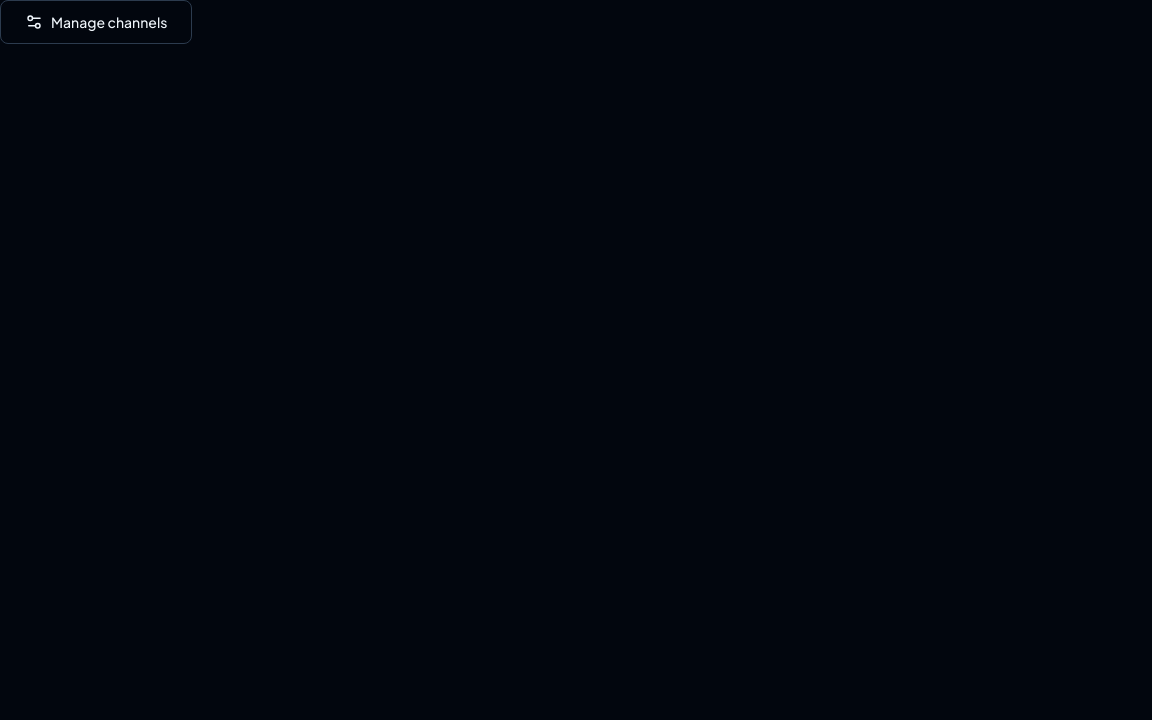
admin community channel management › keeps failed edits retryable without losing entered details
The image size is (1152, 720).
Later steps or results of the test are not shown.
Click the button "Manage channels" at [96, 22], box [0, 0, 192, 44]
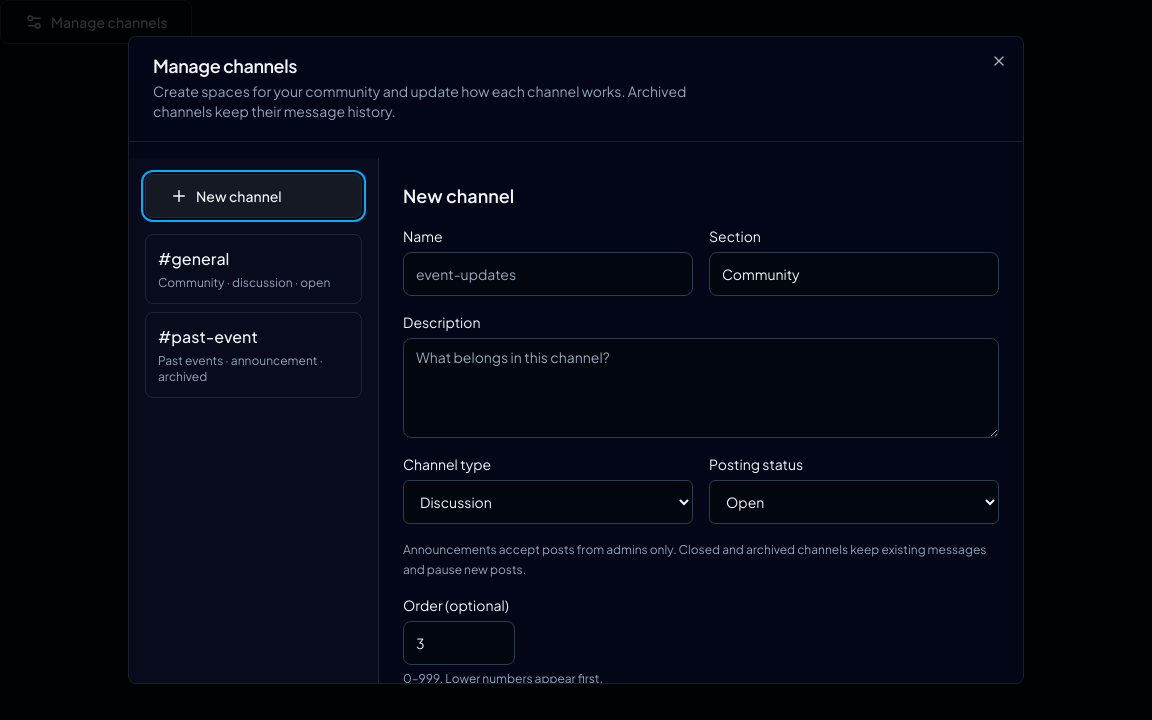
Click the button with aria-label "Edit #general" at [254, 269], box [145, 234, 362, 304]
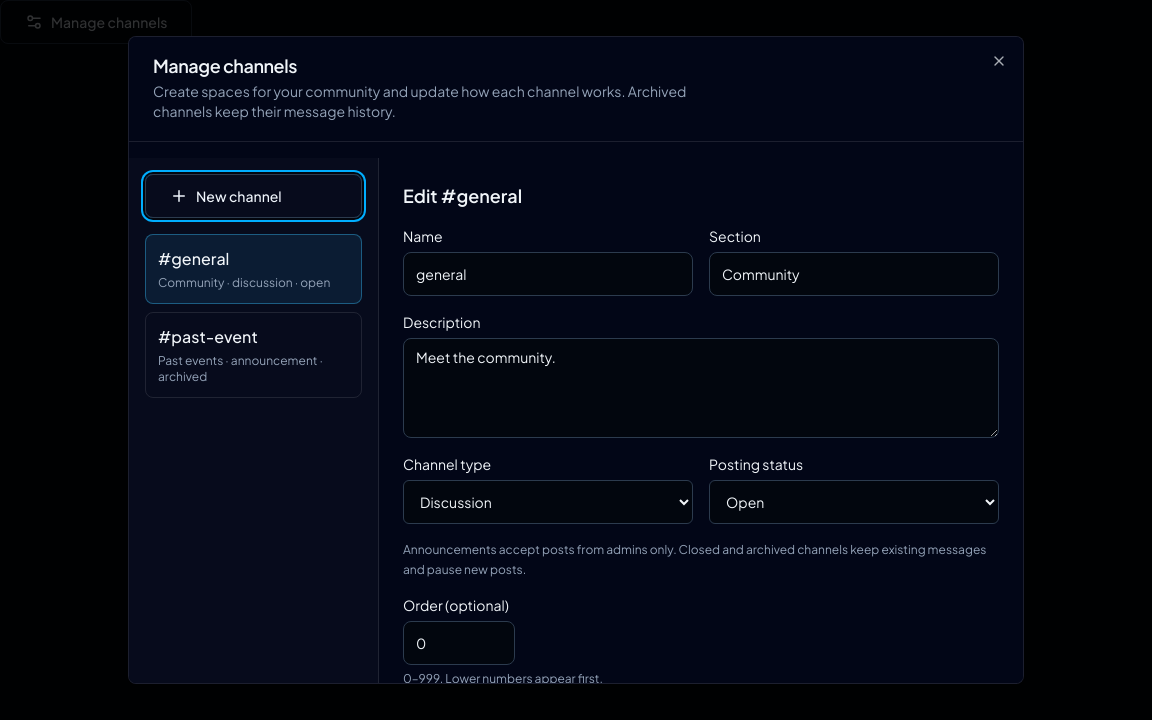
Replace the text in the text box labelled "Description" with "Keep this description." at [701, 388], box [403, 338, 999, 438]
(page scrolled)
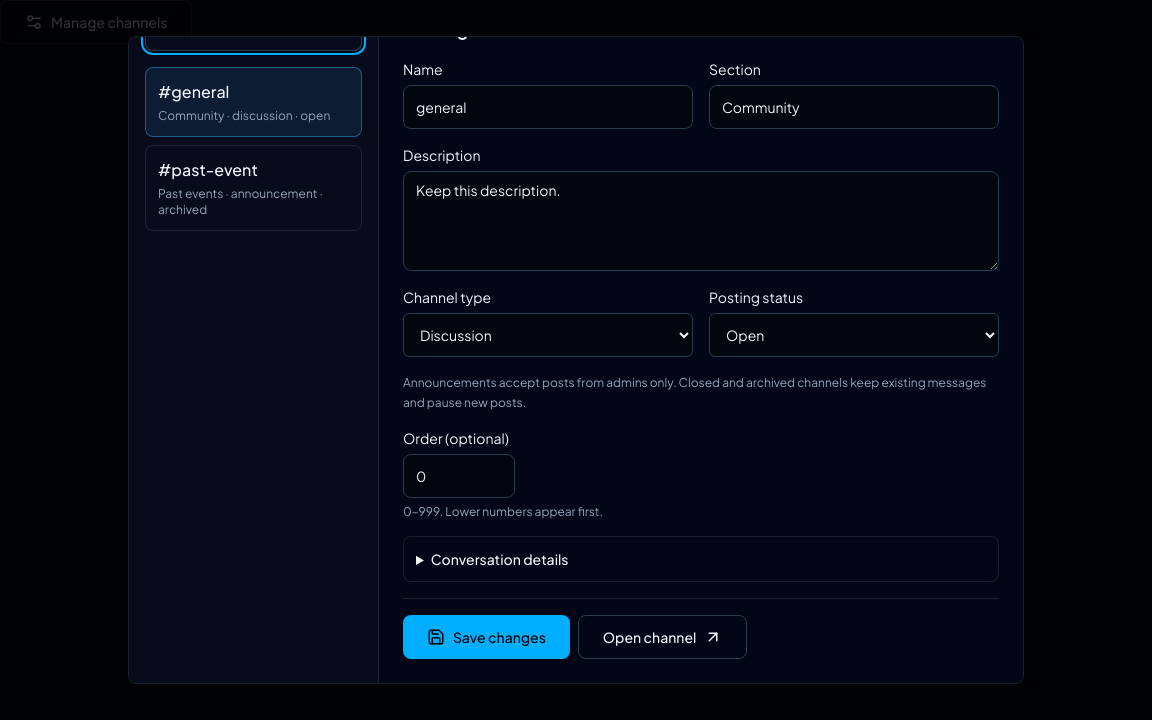
Click the button "Save changes" at [486, 637], box [403, 615, 570, 659]
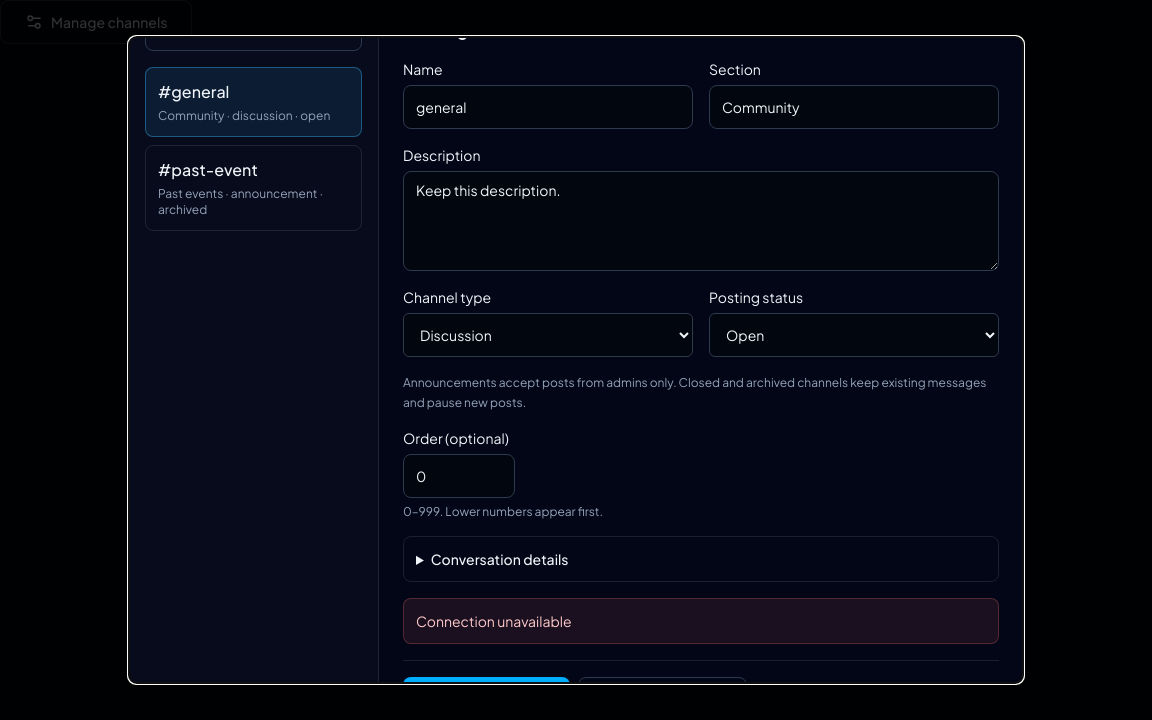
Expected: the message reads "Connection unavailable", [416, 612, 572, 630]
